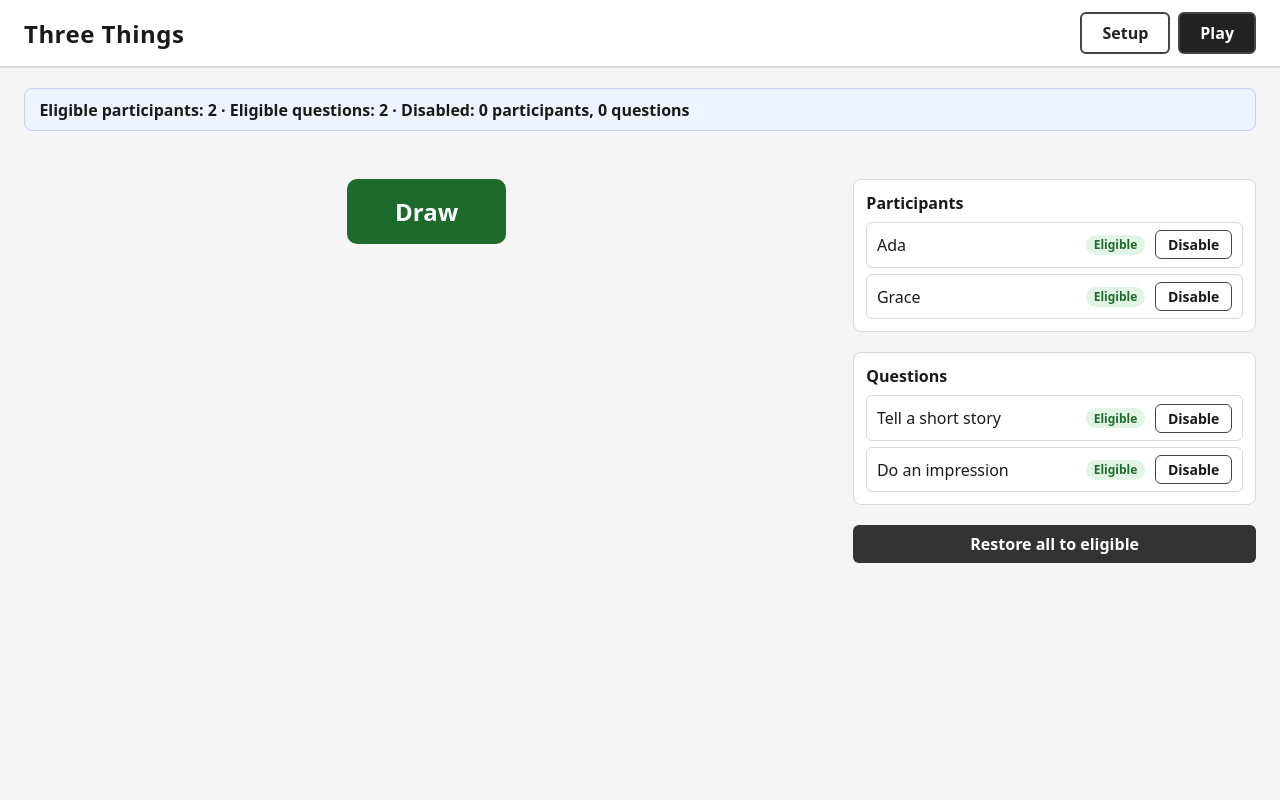
Test: timing settings flow › shows the default timing with both range hints and no save control (V1, FR-002, FR-005)
Click the button "Setup" at {"x": 1125, "y": 33}, box [1080,12,1170,54]
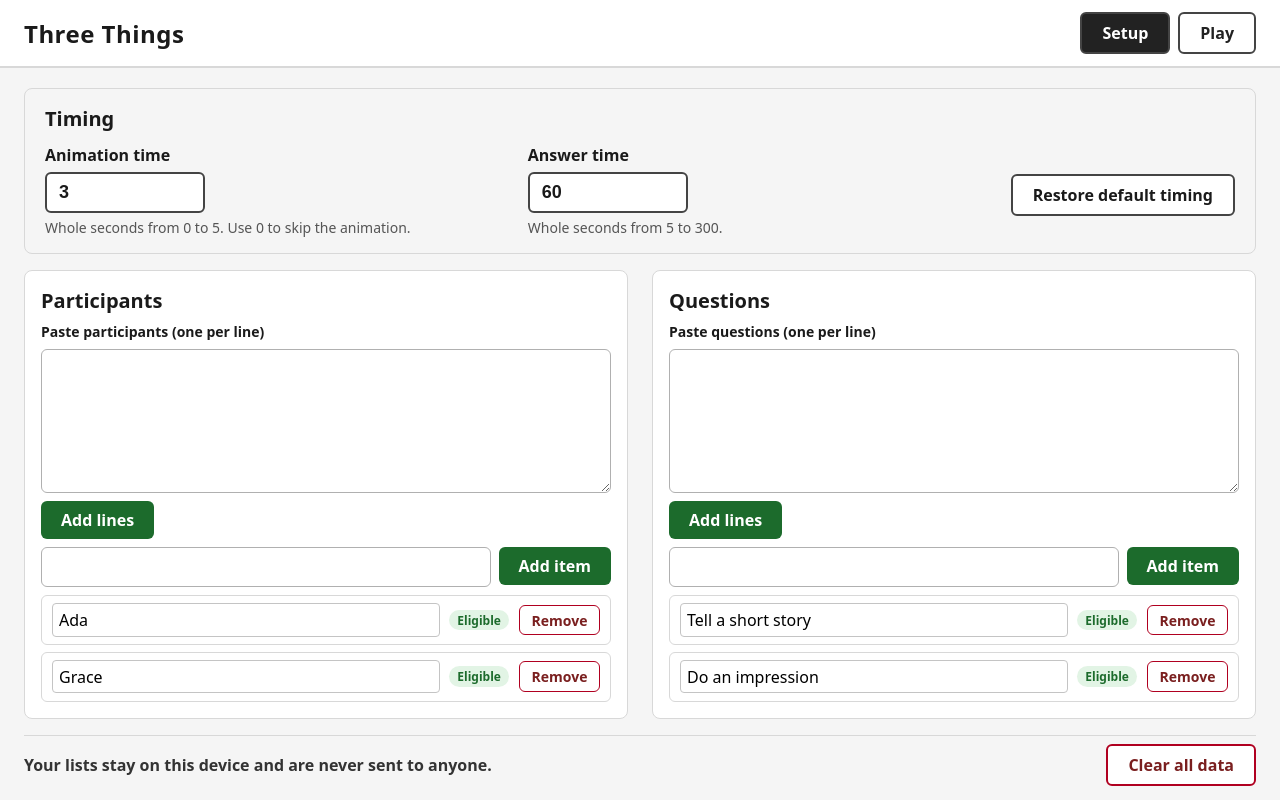
Check: the field labelled "Animation time" holds "3", box [45,172,205,213]
Check: the field labelled "Answer time" holds "60", box [528,172,688,213]
Check: the text "Whole seconds from 0 to 5. Use 0 to skip the animation." is shown, box [45,218,411,237]
